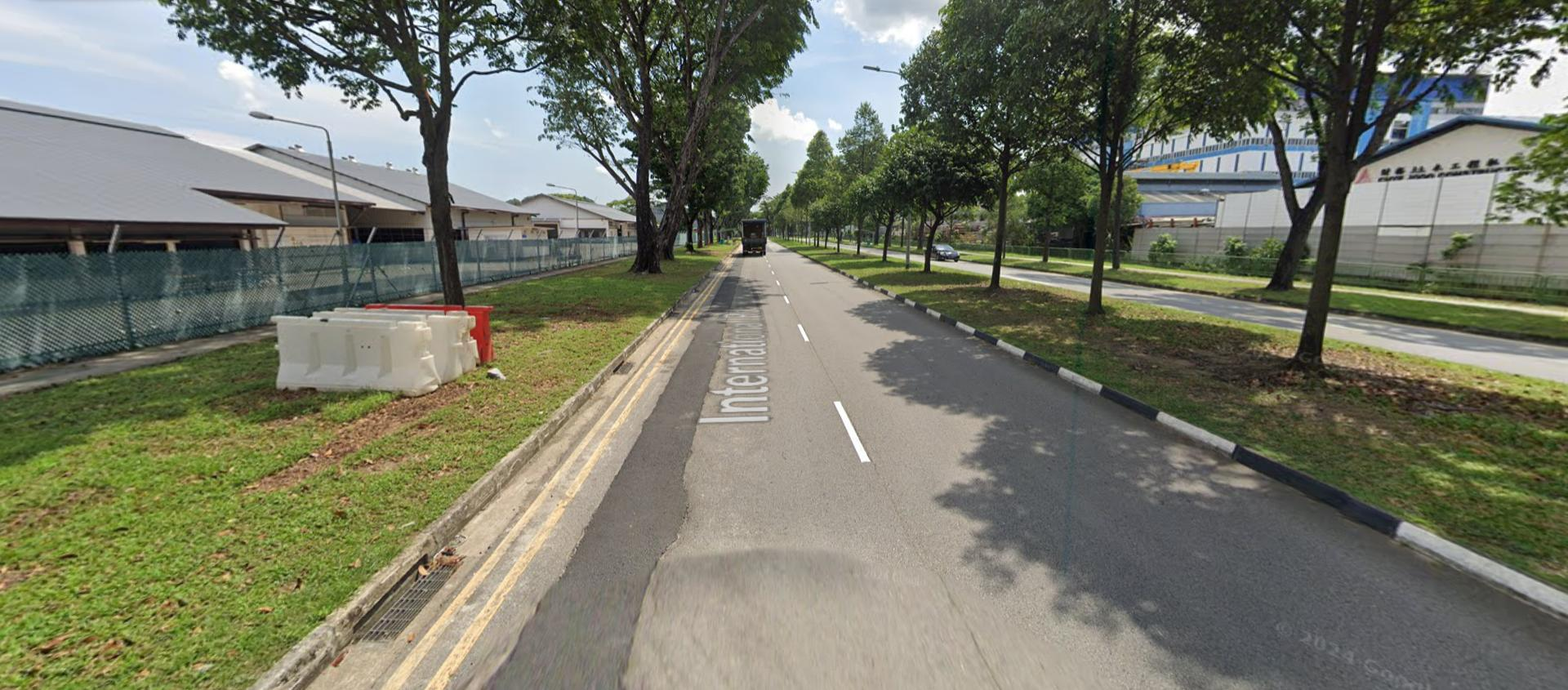normal: (360, 560, 466, 644)
